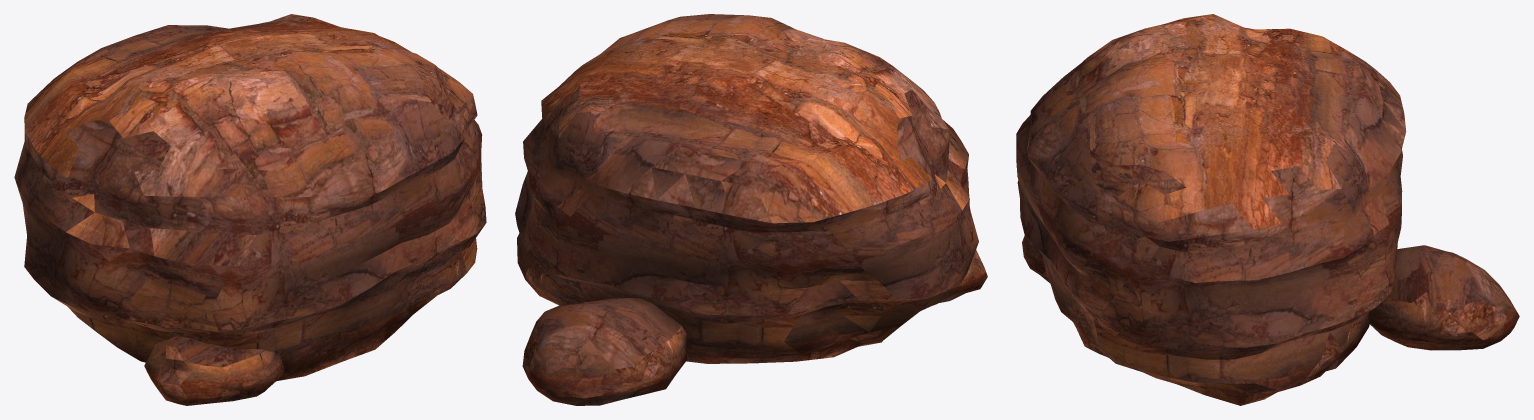
File: boulder_02.glb
The picture shows the model from 3 angles, left to right: view 1: azimuth 30°, elevation 25°; view 2: azimuth 150°, elevation 25°; view 3: azimuth 270°, elevation 25°; orthographic projection. The views are drawn at different scales.
Visible parts, largest first — view 1: boulder_02; view 2: boulder_02; view 3: boulder_02.
Part boxes in pixels (x1,y1,x2,y2): boulder_02: (14,14,486,405); boulder_02: (515,14,987,405); boulder_02: (1016,14,1519,405).
Size of the model in its own units: 4.6 by 2.77 by 4.81.
1 material, 1 textured.
